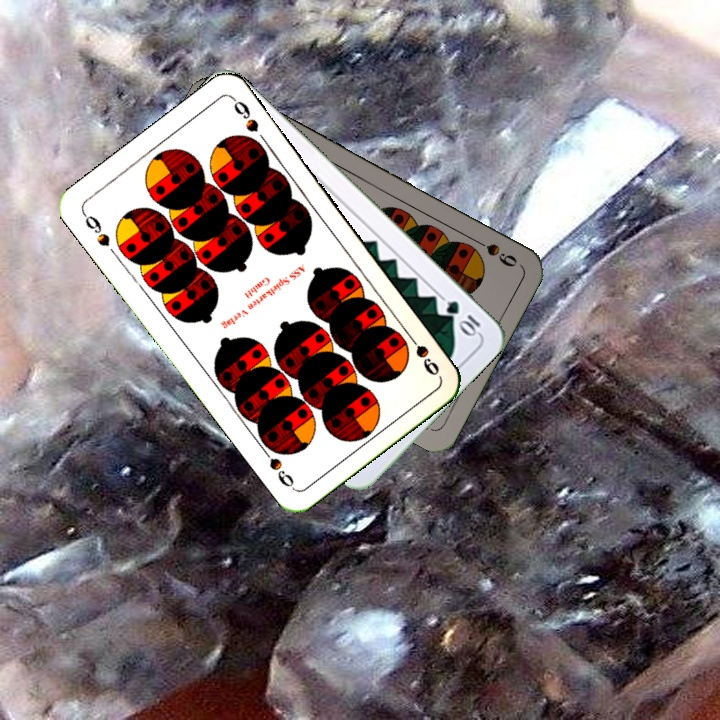G10: (441, 296, 483, 339)
S9: (401, 327, 442, 378), (467, 233, 520, 270), (78, 208, 113, 249)
